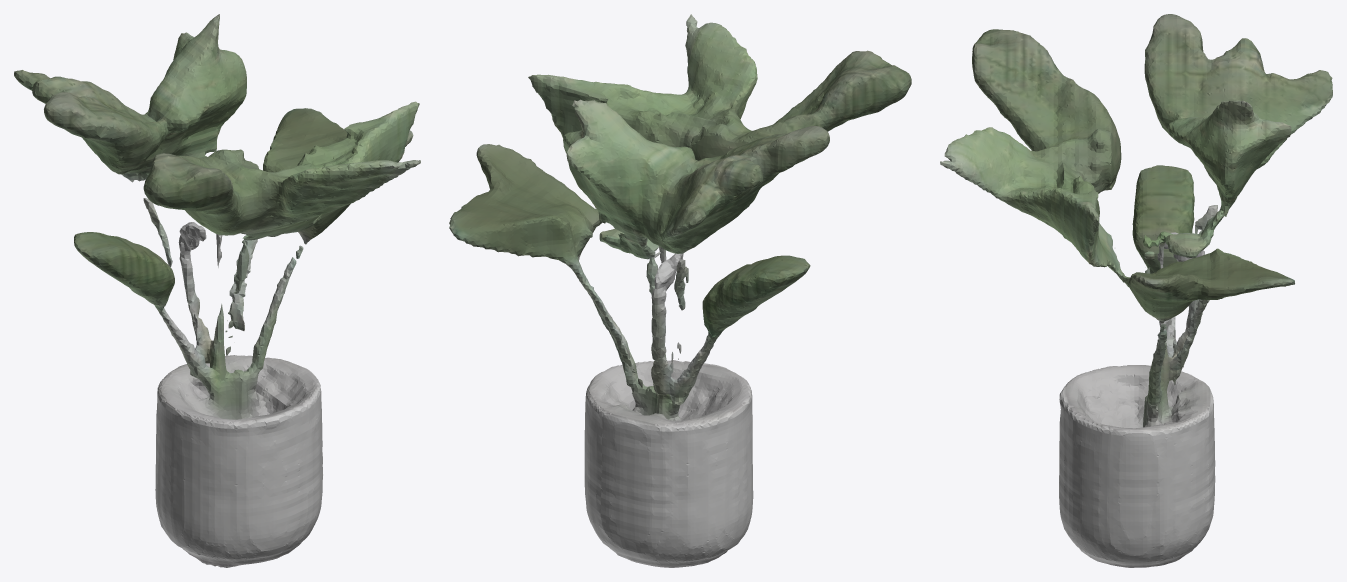
Rendered from plant.glb.
3 renders of one model, left to right at view 1: azimuth 30°, elevation 25°; view 2: azimuth 150°, elevation 25°; view 3: azimuth 270°, elevation 25°, orthographic. The views are drawn at different scales.
Visible parts, largest first — view 1: world; view 2: world; view 3: world.
Part boxes in pixels (x1=…): world: x1=14, y1=14, x2=420, y2=567; world: x1=449, y1=14, x2=911, y2=567; world: x1=940, y1=14, x2=1332, y2=567.
Bounding box in the file's own units: 1.54 × 1.97 × 1.51.
